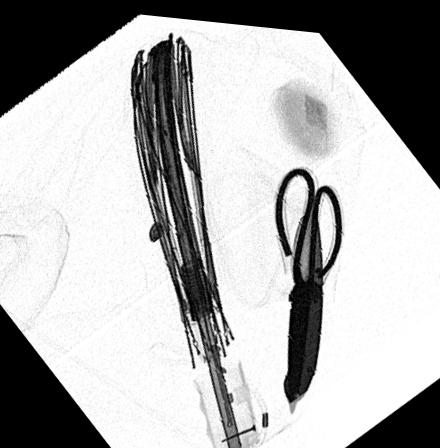Knife: (282, 196, 324, 395)
Scissors: (274, 157, 347, 409)
